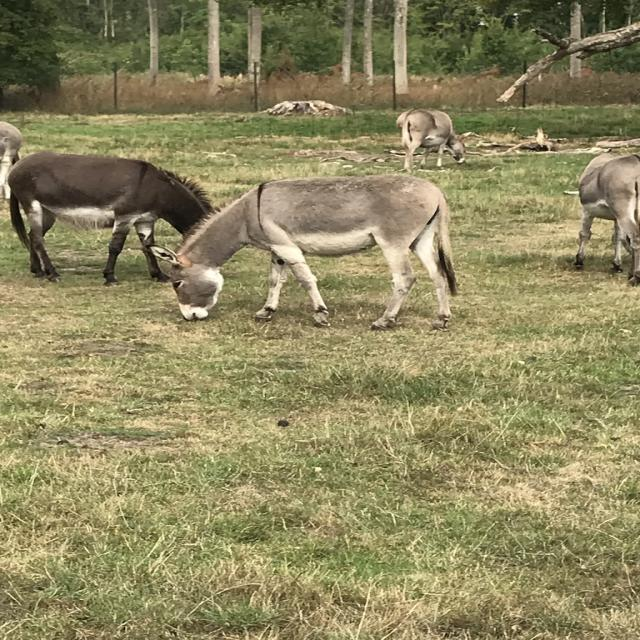Donkey: (147, 171, 460, 331), (4, 150, 221, 286), (560, 146, 638, 288), (393, 106, 472, 172)
